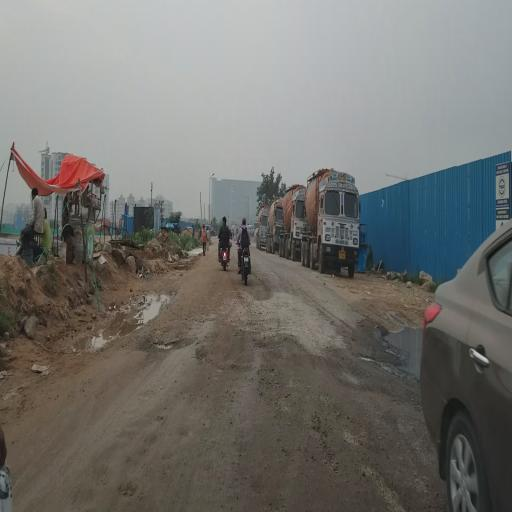street_light_0: (205, 164, 219, 184)
